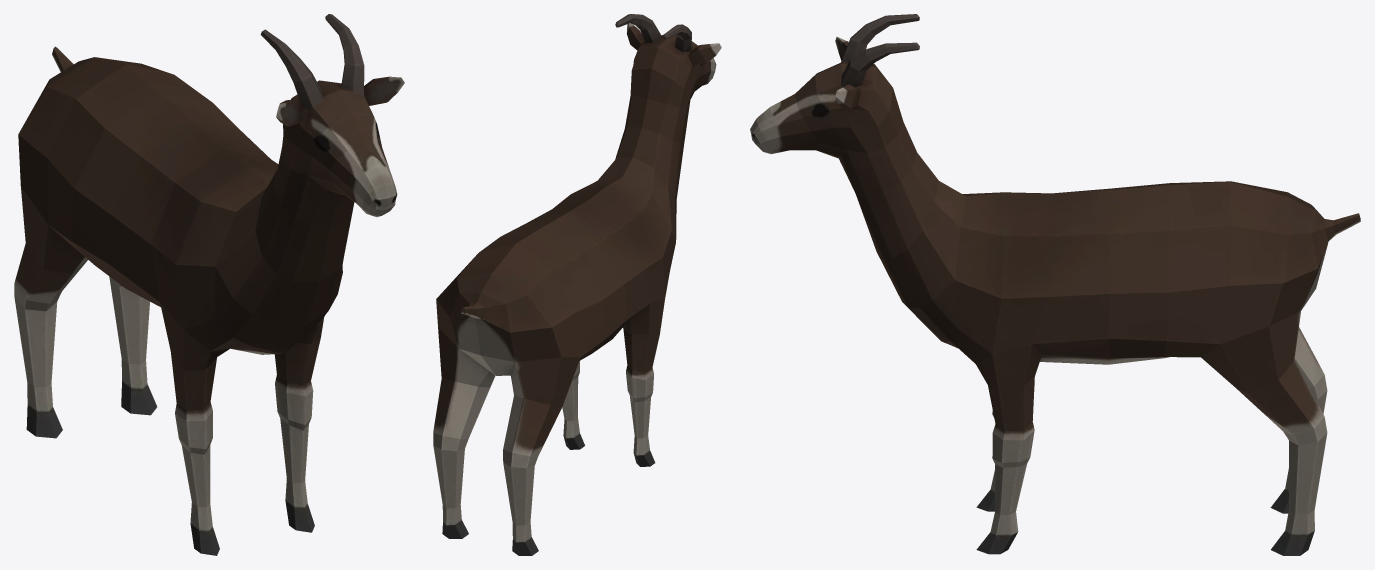
File: goat1.glb
The picture shows the model from 3 angles, left to right: view 1: azimuth 30°, elevation 25°; view 2: azimuth 150°, elevation 25°; view 3: azimuth 270°, elevation 25°; orthographic projection. The views are drawn at different scales.
Parts seen in each view (by area): view 1: Goat_mesh; view 2: Goat_mesh; view 3: Goat_mesh.
Boxes of the visible parts, bbox=[...] form: Goat_mesh: bbox=[14, 14, 404, 555]; Goat_mesh: bbox=[433, 14, 721, 555]; Goat_mesh: bbox=[750, 14, 1360, 555].
Size of the model in its own units: 2.26 by 6.6 by 7.31.
Materials: 1 (1 with a texture image).
